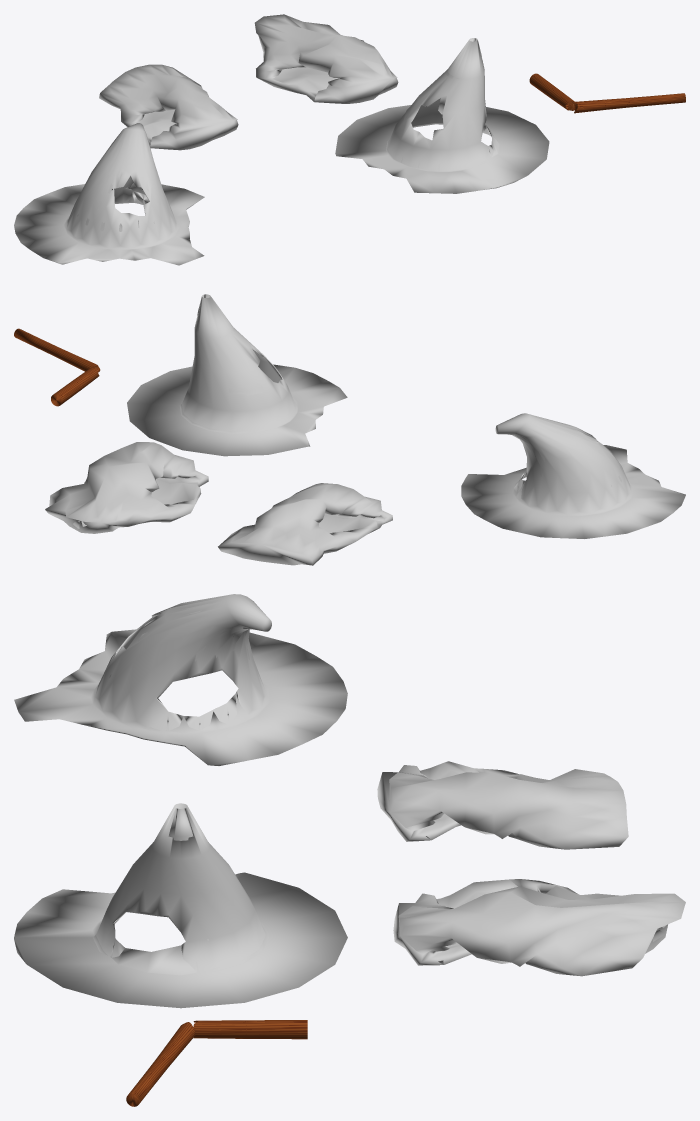
Rendered from Garbages.fbx.
3 renders of one model, top to bottom at view 1: azimuth 30°, elevation 25°; view 2: azimuth 150°, elevation 25°; view 3: azimuth 270°, elevation 25°, orthographic. The views are drawn at different scales.
Parts seen in each view (by area): view 1: Broken Hat 1, Broken Hat 2, Broken Robe 2, Broken Robe 1, Broken twig; view 2: Broken Hat 1, Broken Hat 2, Broken Robe 2, Broken Robe 1, Broken twig; view 3: Broken Hat 1, Broken Hat 2, Broken Robe 2, Broken Robe 1, Broken twig.
Part boxes in pixels (left/top/right/bottom): Broken Hat 1: left=335, top=38, right=549, bottom=193; Broken Hat 2: left=14, top=123, right=204, bottom=265; Broken Robe 2: left=254, top=14, right=398, bottom=103; Broken Robe 1: left=99, top=64, right=238, bottom=150; Broken twig: left=529, top=73, right=685, bottom=113; Broken Hat 1: left=127, top=294, right=347, bottom=456; Broken Hat 2: left=461, top=413, right=685, bottom=538; Broken Robe 2: left=45, top=442, right=208, bottom=533; Broken Robe 1: left=218, top=483, right=392, bottom=565; Broken twig: left=14, top=328, right=100, bottom=406; Broken Hat 1: left=14, top=803, right=347, bottom=1008; Broken Hat 2: left=14, top=594, right=347, bottom=765; Broken Robe 2: left=393, top=879, right=685, bottom=976; Broken Robe 1: left=377, top=761, right=628, bottom=849; Broken twig: left=126, top=1020, right=307, bottom=1106.
Bounding box in the file's own units: 4.63 × 0.7194 × 2.71.
